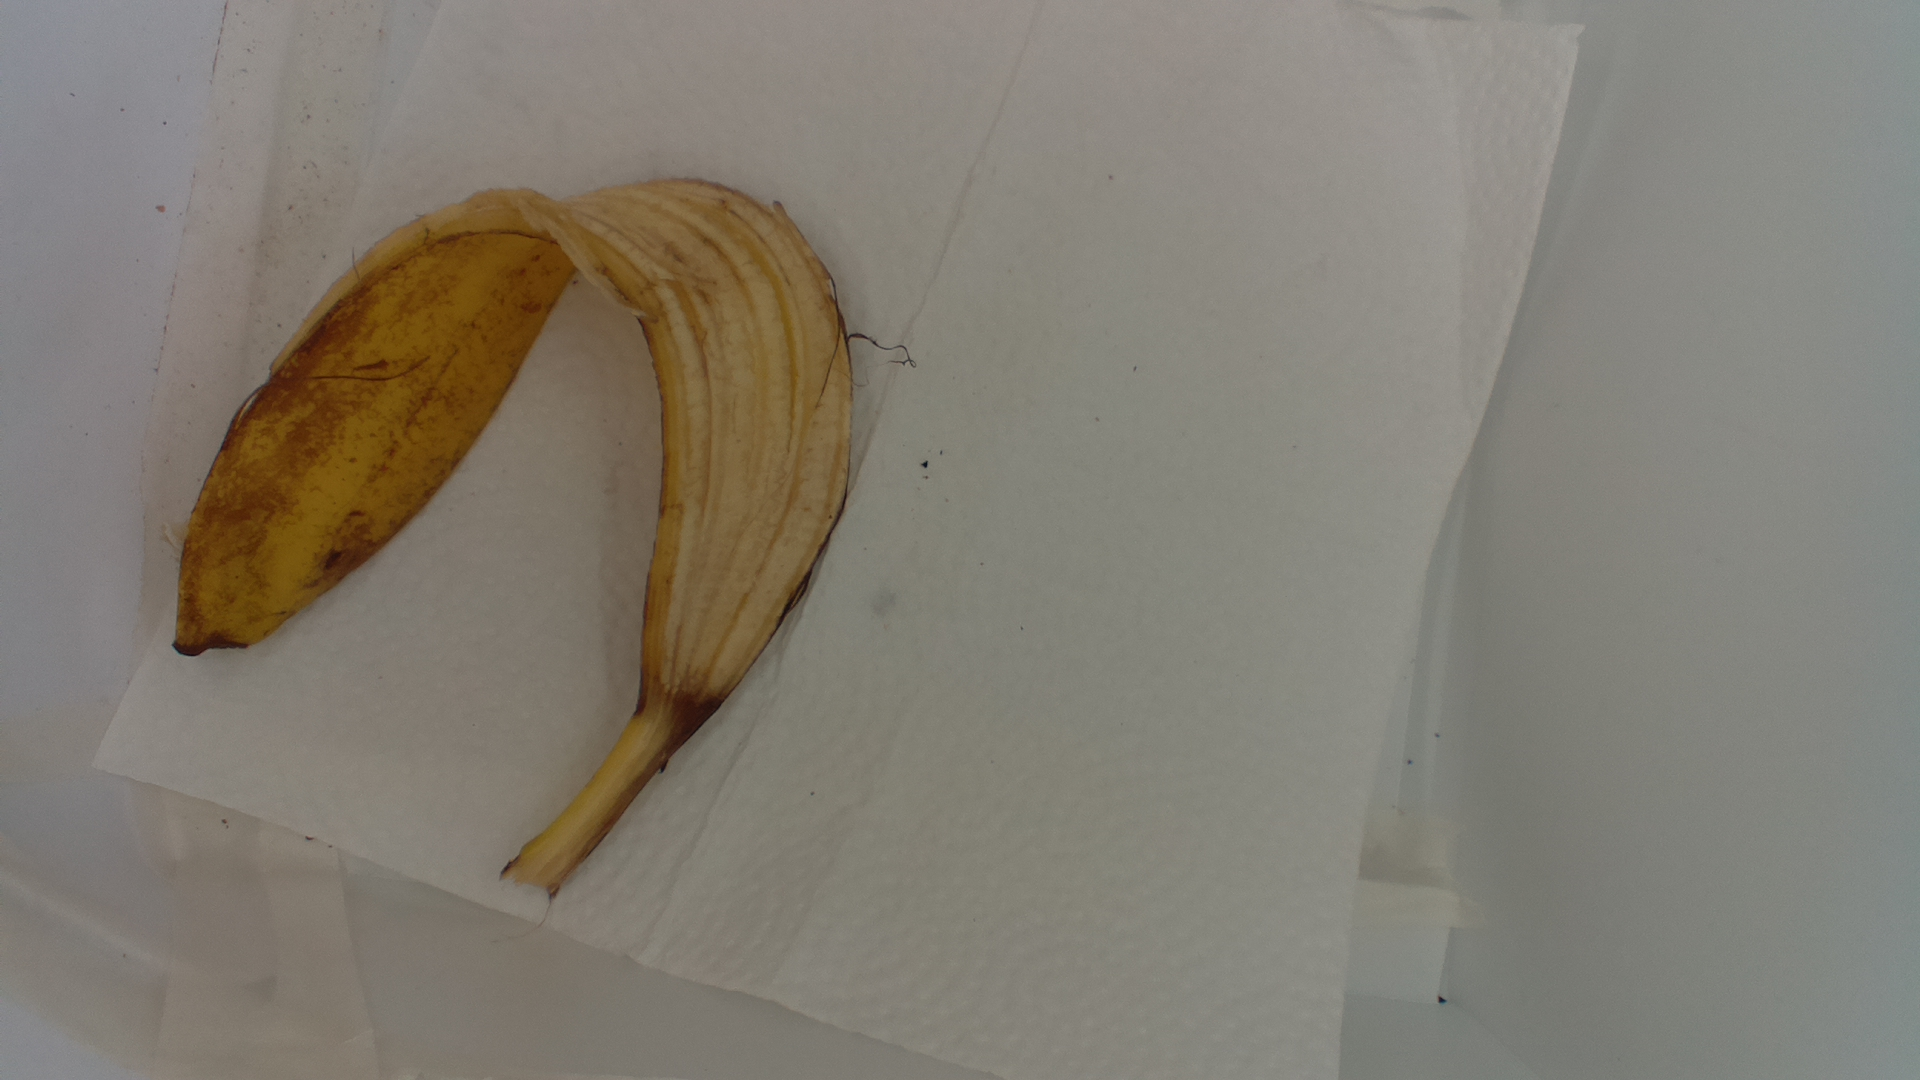fruit: (175, 167, 866, 916)
